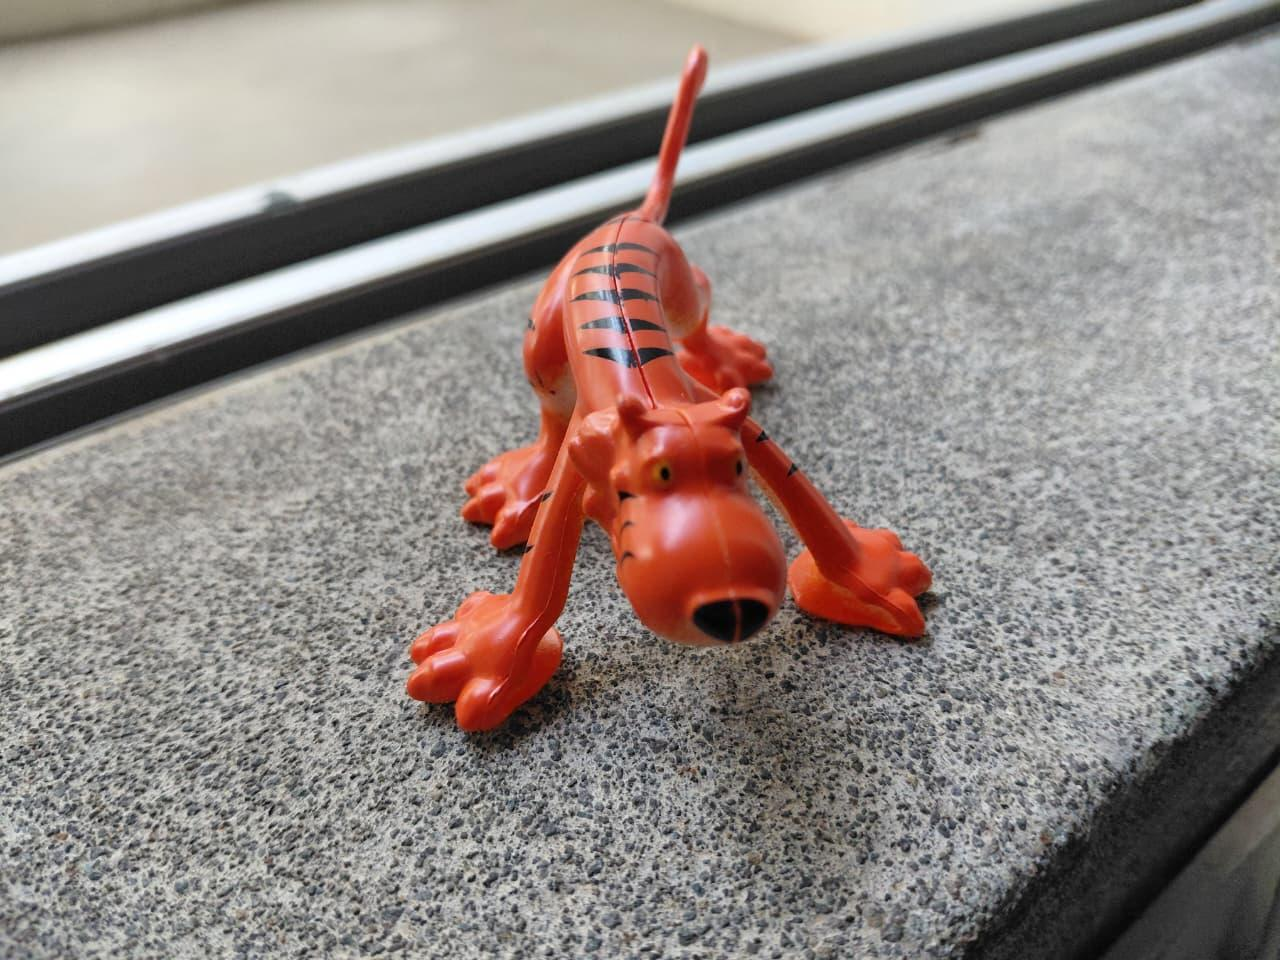tiger: (401, 20, 939, 807)
